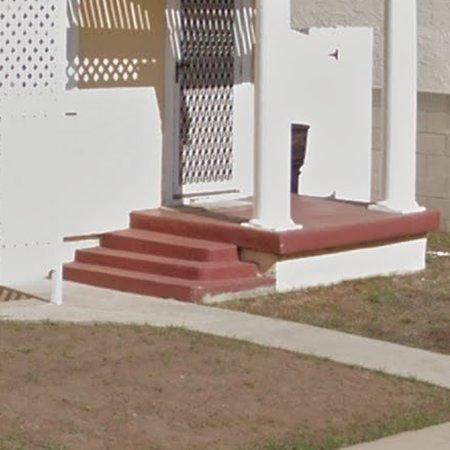stairs: (63, 211, 275, 302)
